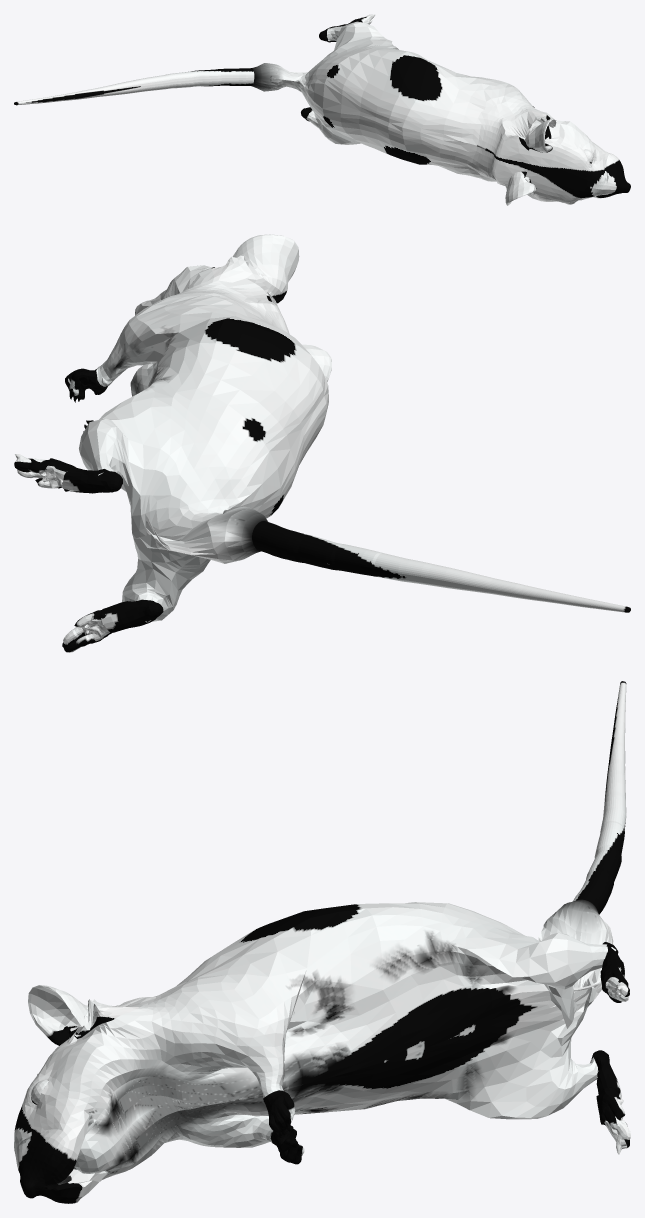
The model's file is mouse_frame0.obj.
3 renders of one model, top to bottom at view 1: azimuth 30°, elevation 25°; view 2: azimuth 150°, elevation 25°; view 3: azimuth 270°, elevation 25°, orthographic. The views are drawn at different scales.
Bounding box in the file's own units: 117 × 33.19 × 79.14.
Materials: 1 (1 with a texture image).
